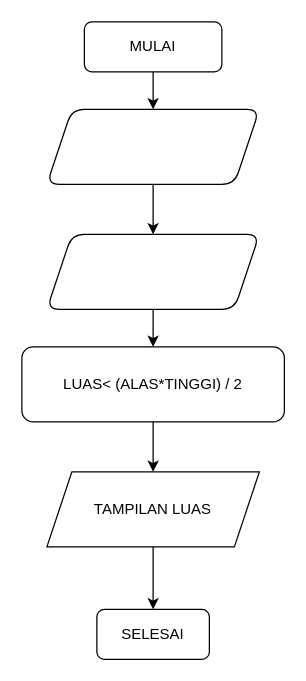
The diagram is 306 pixels wide and 681 high, and some of its shapes have lost their labels. The shapes that lost their labels are listed below. From the top down, each one's centre as x and y in pixels, then its label:
At point 152,146: "INPUT ALAS".
At point 152,271: "INPUT TINGGI".
